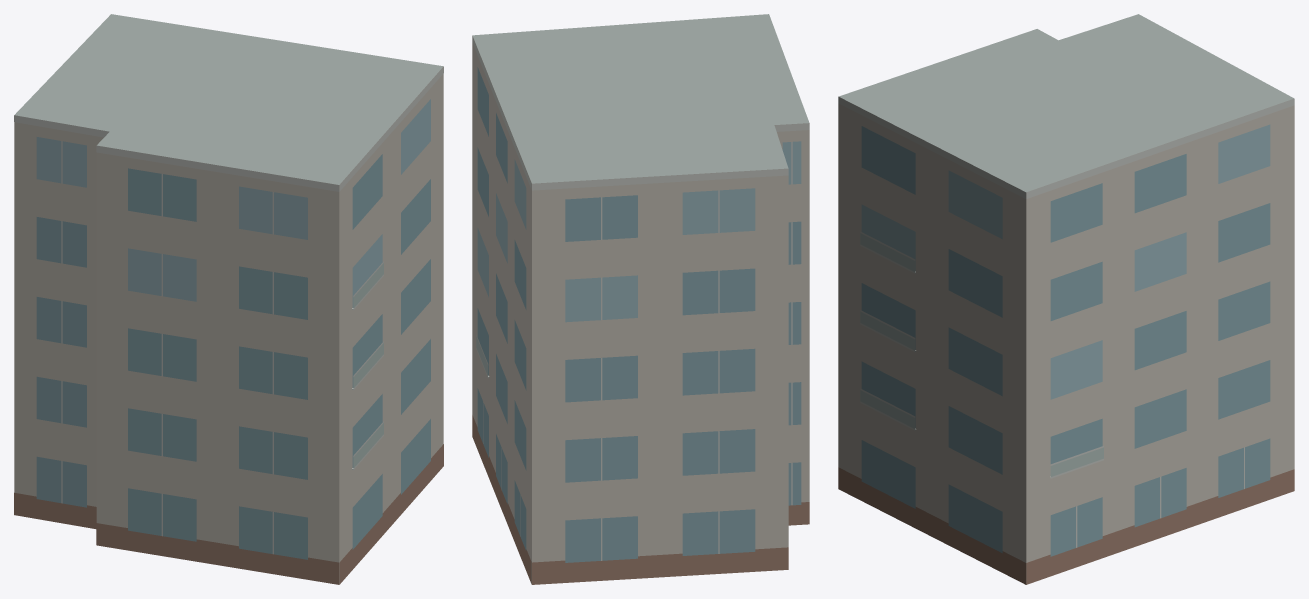
File: survey-upis-32997798.glb
3 views of the same model, side by side, from view 1: azimuth 30°, elevation 25°; view 2: azimuth 150°, elevation 25°; view 3: azimuth 270°, elevation 25° (orthographic). The views are drawn at different scales.
Parts seen in each view (by area): view 1: survey-upis-32997798.tmp; view 2: survey-upis-32997798.tmp; view 3: survey-upis-32997798.tmp.
Boxes of the visible parts, left/top/right/bottom form: survey-upis-32997798.tmp: left=14, top=14, right=443, bottom=584; survey-upis-32997798.tmp: left=472, top=14, right=809, bottom=584; survey-upis-32997798.tmp: left=838, top=14, right=1294, bottom=584.
Size of the model in its own units: 13.7 by 14.05 by 14.8.
